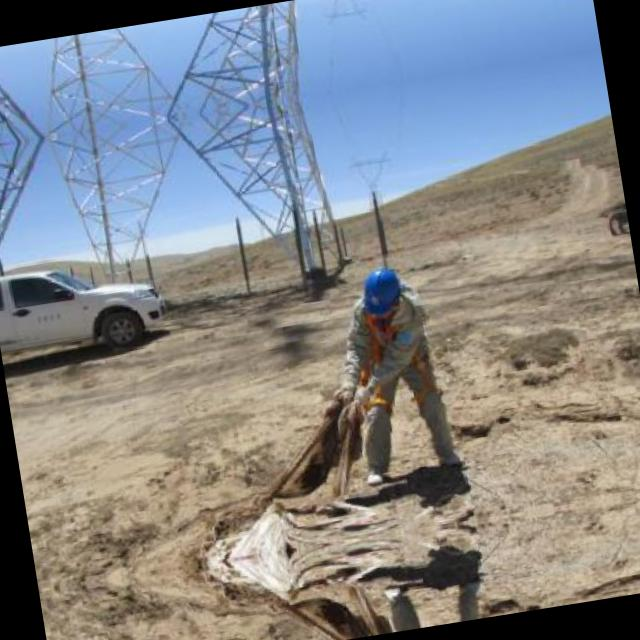helmet: (358, 257, 409, 319)
